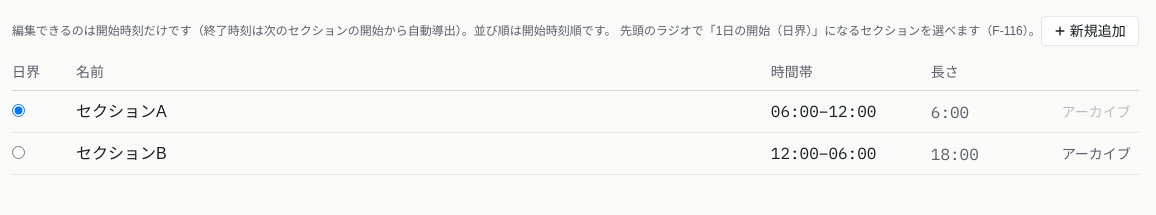
Scenario: SectionsTable（画面定義書03 §3.1: 開始時刻・日界の選択・終了時刻は導出） › インライン編集（画面定義書03 §4「編集方式」/ 00_共通 §2.3） › Esc で開始時刻セルが閉じ、導出込みの枠表示に戻る
The width and height of the screenshot is (1156, 215).
Click the button "06:00–12:00" at point(824, 111), box [771,99,876,123]
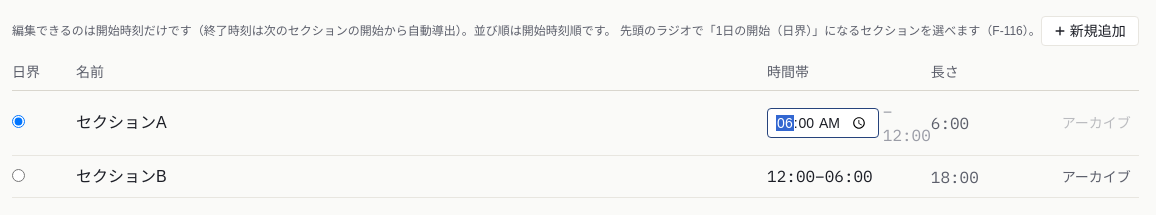
Replace the text in the time field showing "06:00" with "23:45" at point(823, 123), box [767,108,879,138]
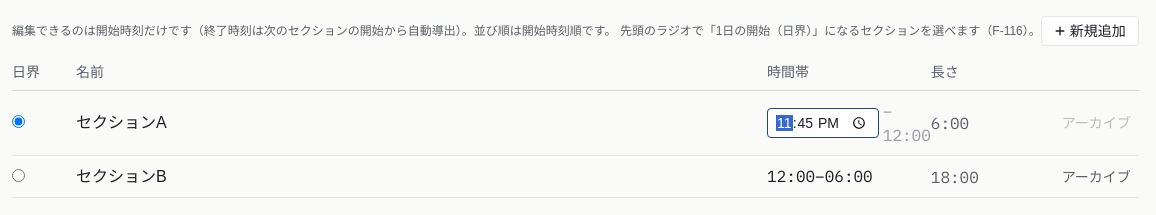
Press Escape in the time field showing "06:00", box [767,108,879,138]
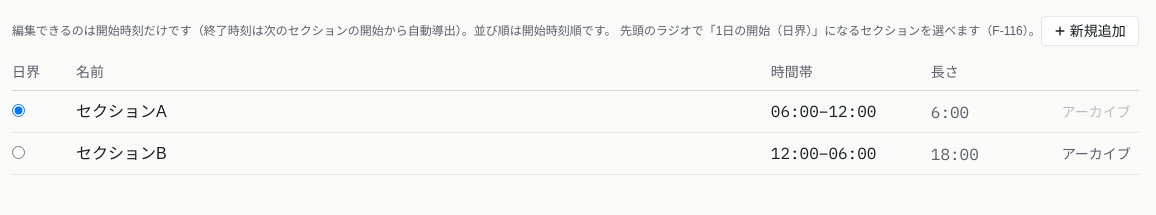
Expected: the button "06:00–12:00" is shown, [771,99,876,123]
